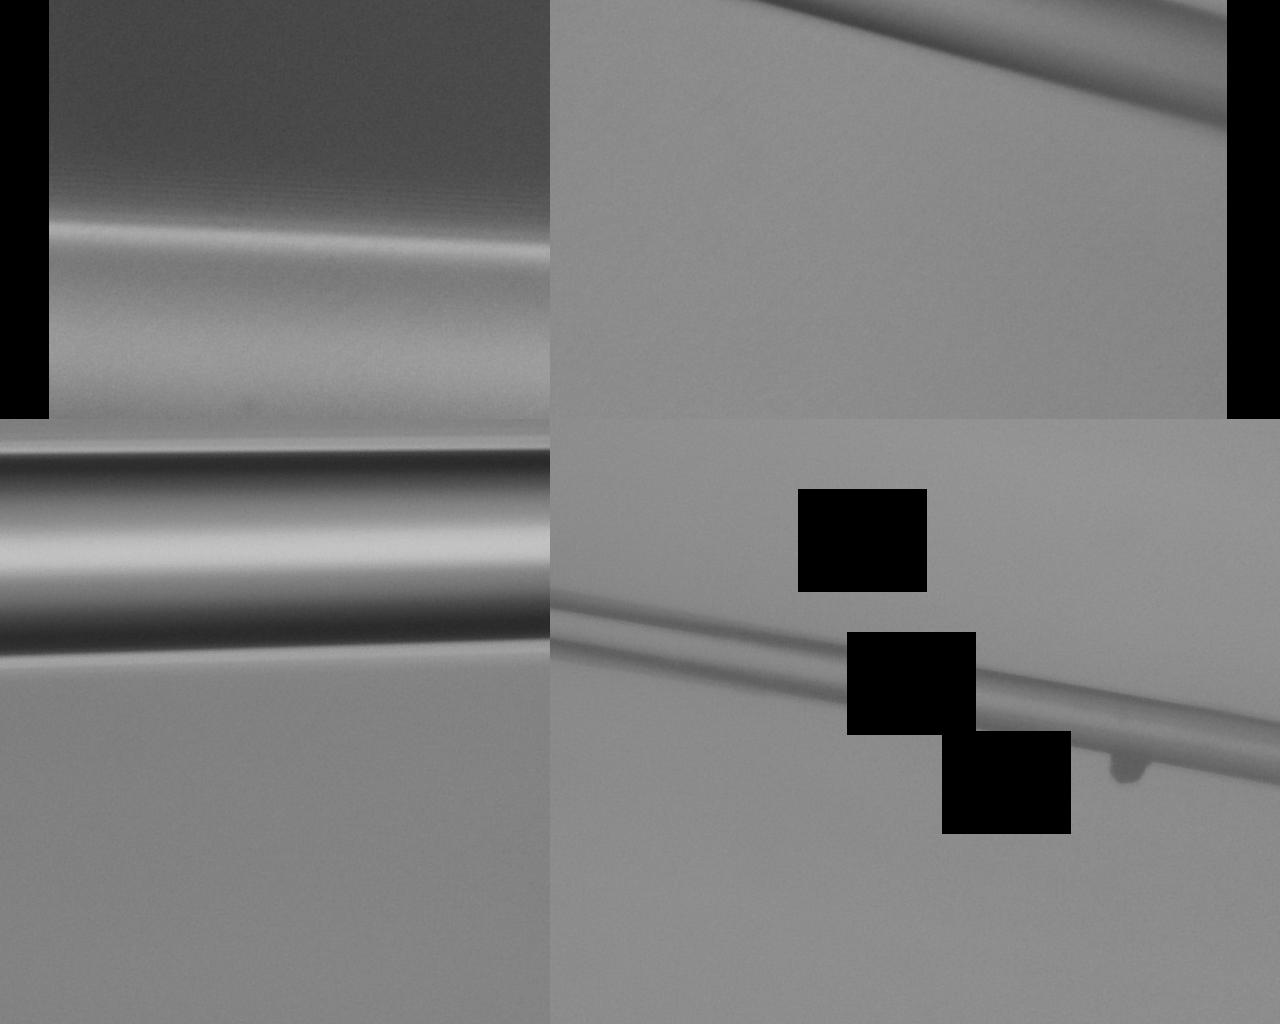fiber: (287, 124, 1280, 525)
